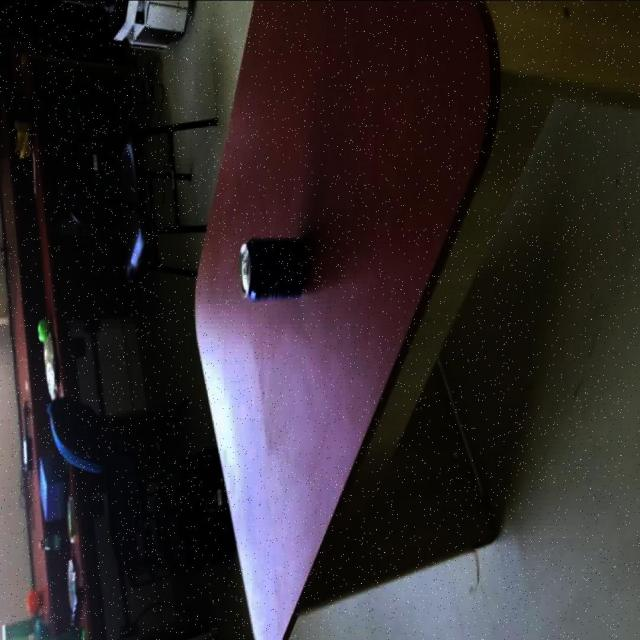Tonic: (238, 238, 305, 304), (1, 617, 40, 640), (37, 534, 70, 553)
